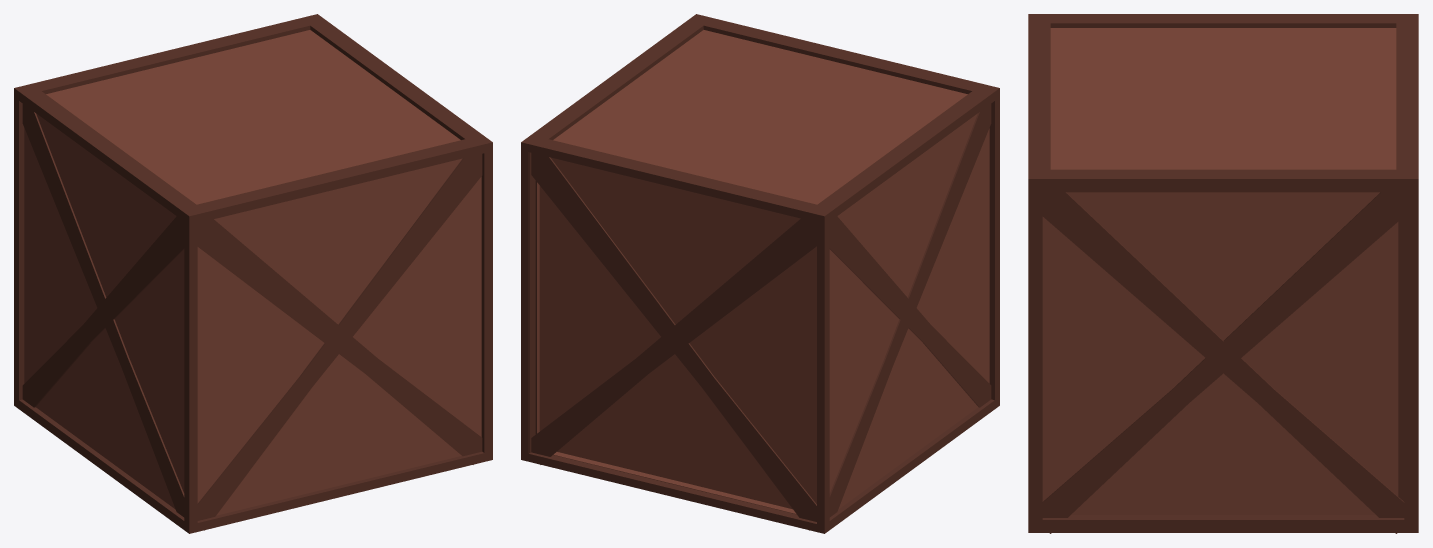
The model's file is Crate.fbx.
3 views of the same model, side by side, from view 1: azimuth 30°, elevation 25°; view 2: azimuth 150°, elevation 25°; view 3: azimuth 270°, elevation 25° (orthographic). The views are drawn at different scales.
Parts seen in each view (by area): view 1: Crate.001; view 2: Crate.001; view 3: Crate.001.
Part boxes in pixels (x1,y1,x2,y2): Crate.001: (14, 14, 492, 533); Crate.001: (521, 14, 999, 533); Crate.001: (1028, 14, 1418, 533).
Size of the model in its own units: 107 by 107 by 108.
